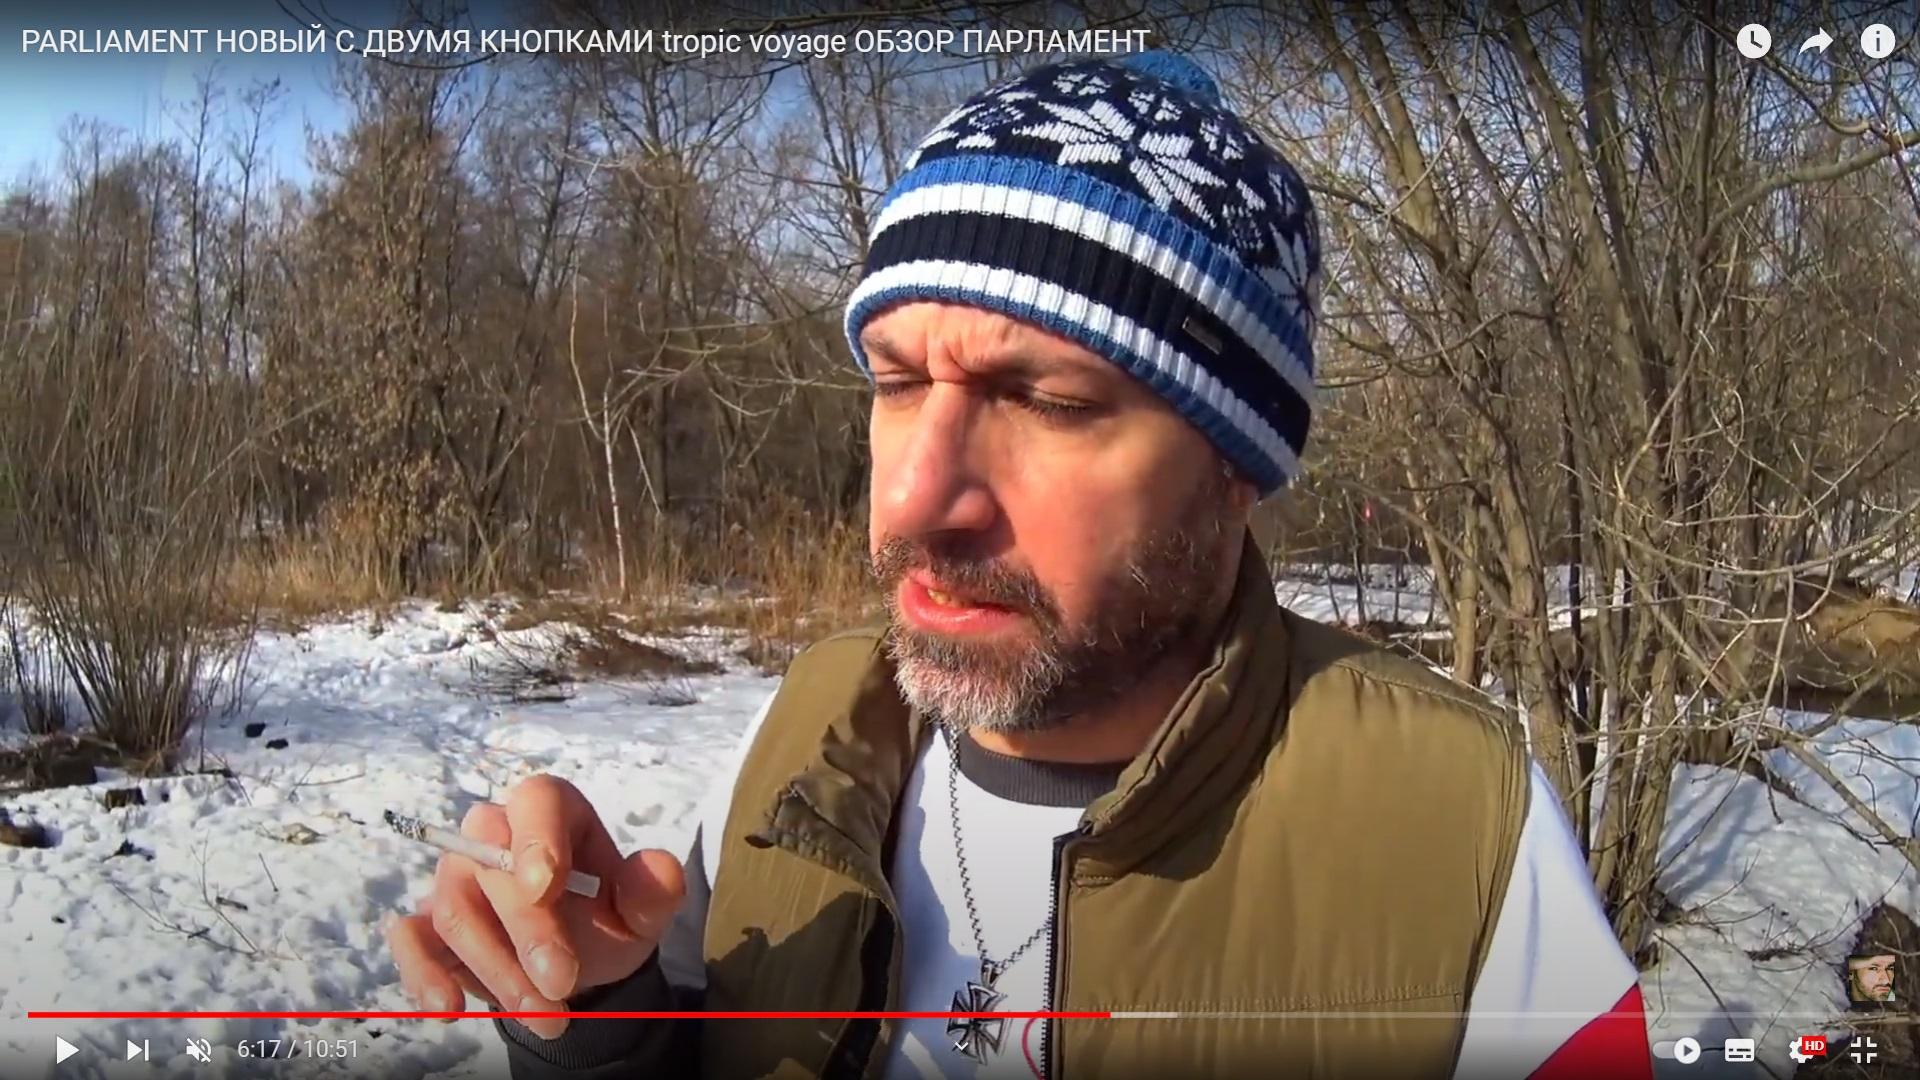cigarette: (384, 808, 601, 899)
